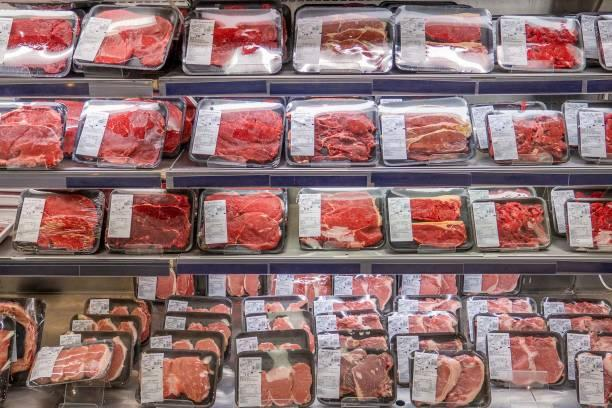article: (394, 4, 492, 72), (189, 98, 283, 166), (13, 190, 104, 253), (198, 189, 286, 252), (411, 353, 488, 405), (29, 340, 113, 386)
